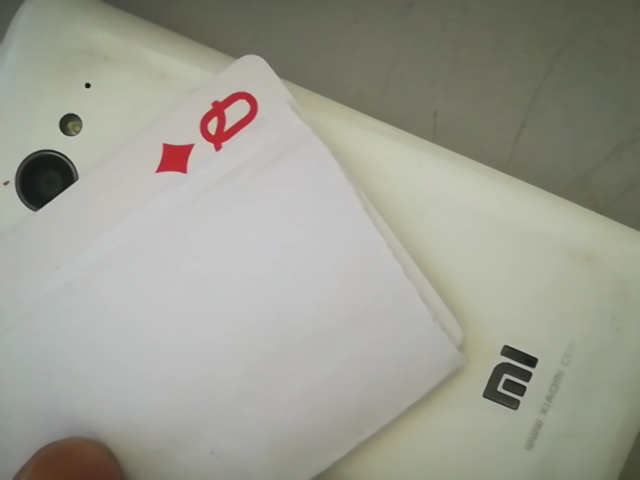fk q: (154, 81, 270, 180)
